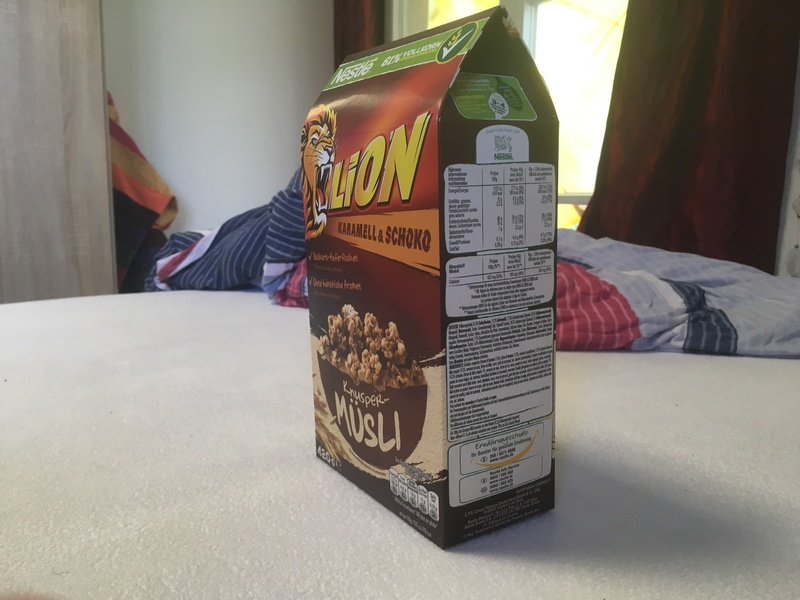cereals: (299, 5, 560, 549)
